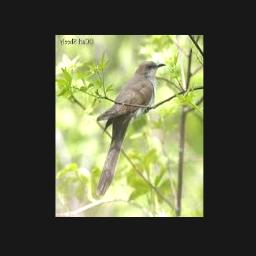Cuckoo: (97, 61, 166, 197)
